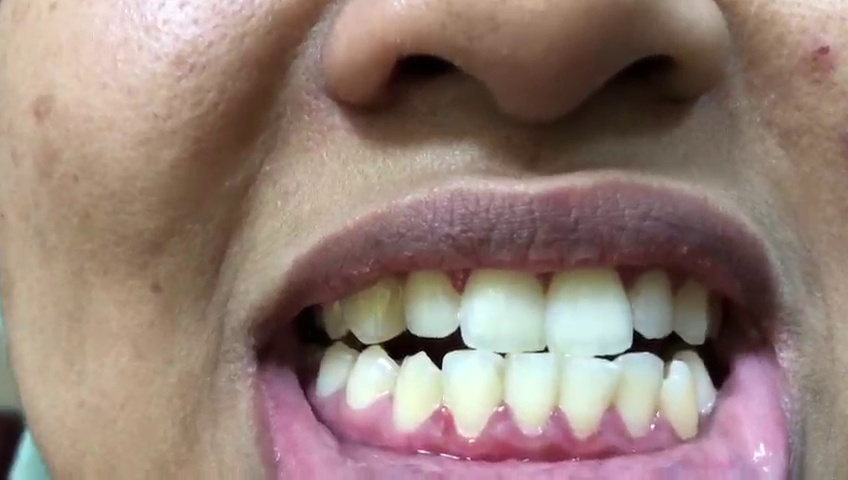1st Premolar: (347, 343, 398, 410), (674, 349, 716, 419)
2nd Premolar: (316, 342, 355, 399)
Canine: (339, 274, 404, 345), (394, 349, 441, 434), (661, 358, 698, 441), (677, 277, 709, 343)
Central Incisor: (547, 262, 634, 357), (459, 264, 548, 354), (558, 353, 617, 444), (503, 351, 559, 439)
Lateral Incisor: (444, 352, 501, 439), (615, 352, 664, 439), (403, 264, 459, 339), (630, 274, 674, 339)
